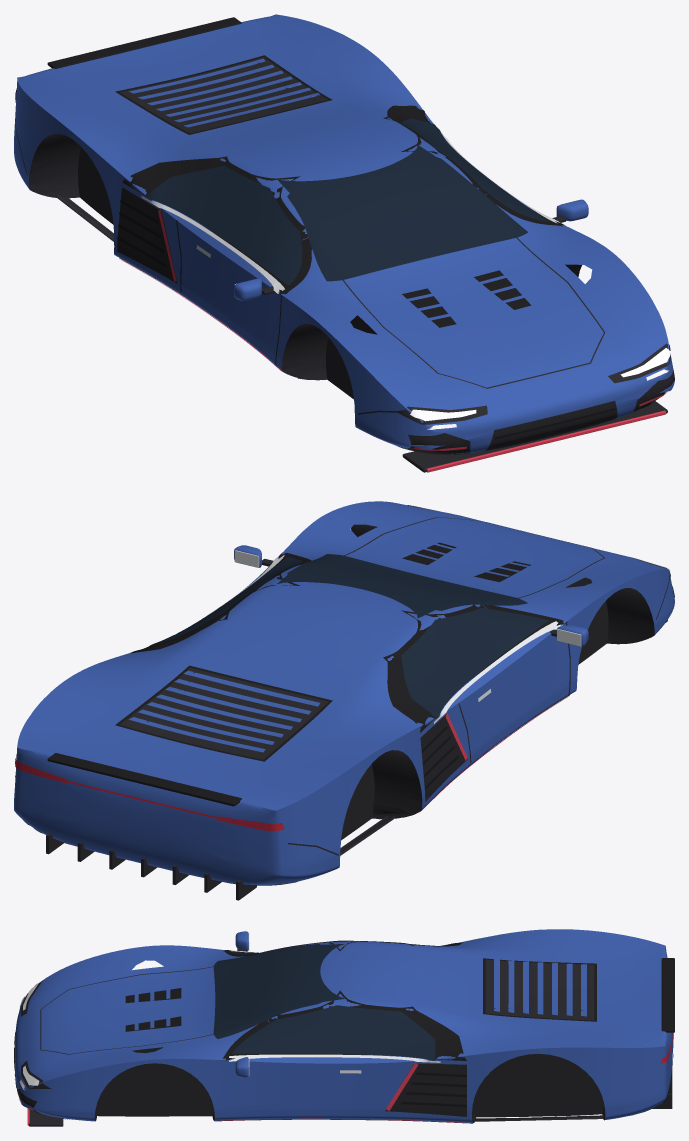
File: furia.glb
The picture shows the model from 3 angles, top to bottom: view 1: azimuth 30°, elevation 25°; view 2: azimuth 150°, elevation 25°; view 3: azimuth 270°, elevation 25°; orthographic projection. The views are drawn at different scales.
Visible parts, largest first — view 1: body; view 2: body; view 3: body.
Boxes of the visible parts, x1,y1,x2,y2 form: body: (14, 14, 674, 472); body: (14, 501, 674, 900); body: (14, 929, 674, 1126).
Bounding box in the file's own units: 2.44 × 0.9166 × 4.99.
